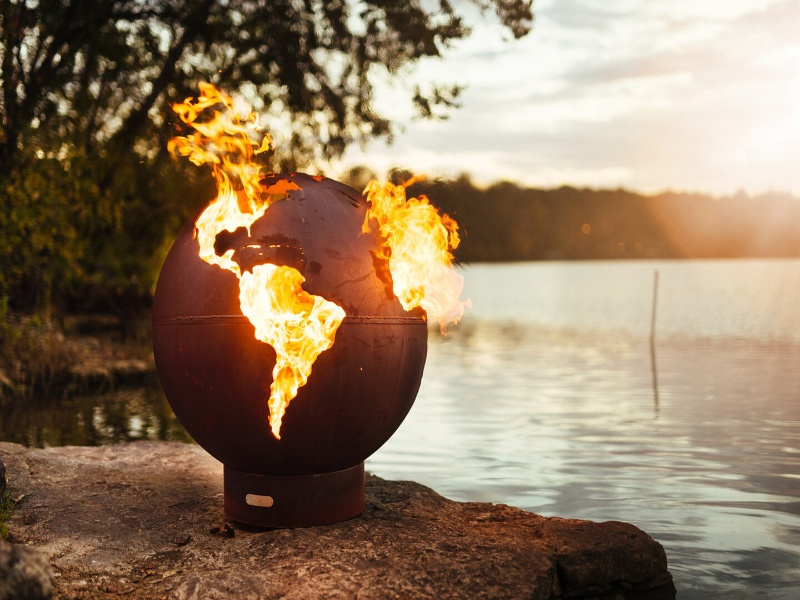fire: (155, 91, 269, 236), (390, 157, 475, 335), (251, 276, 308, 416)
